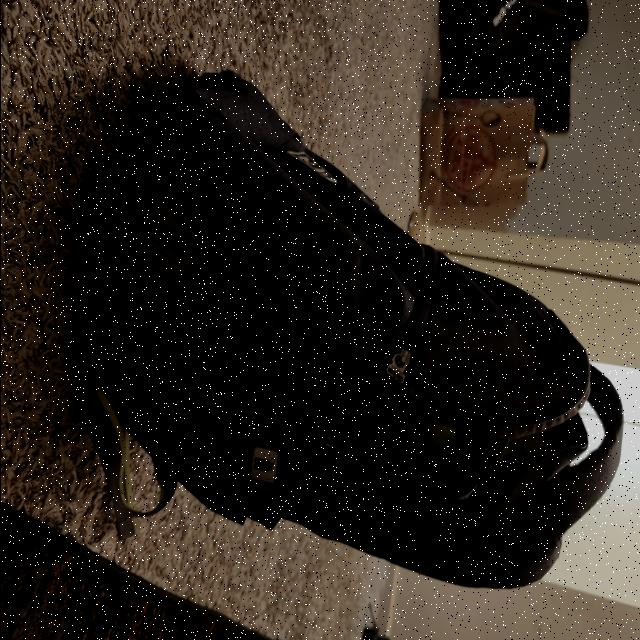bag: (212, 279, 556, 512)
